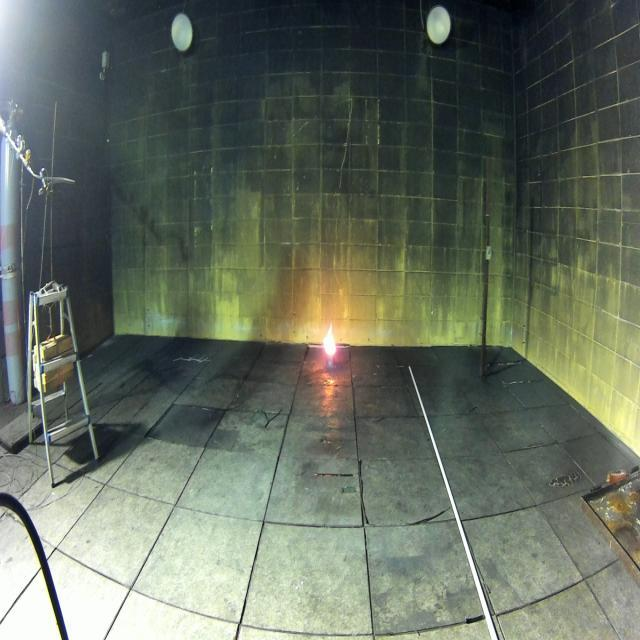Fire: (324, 323, 336, 355)
